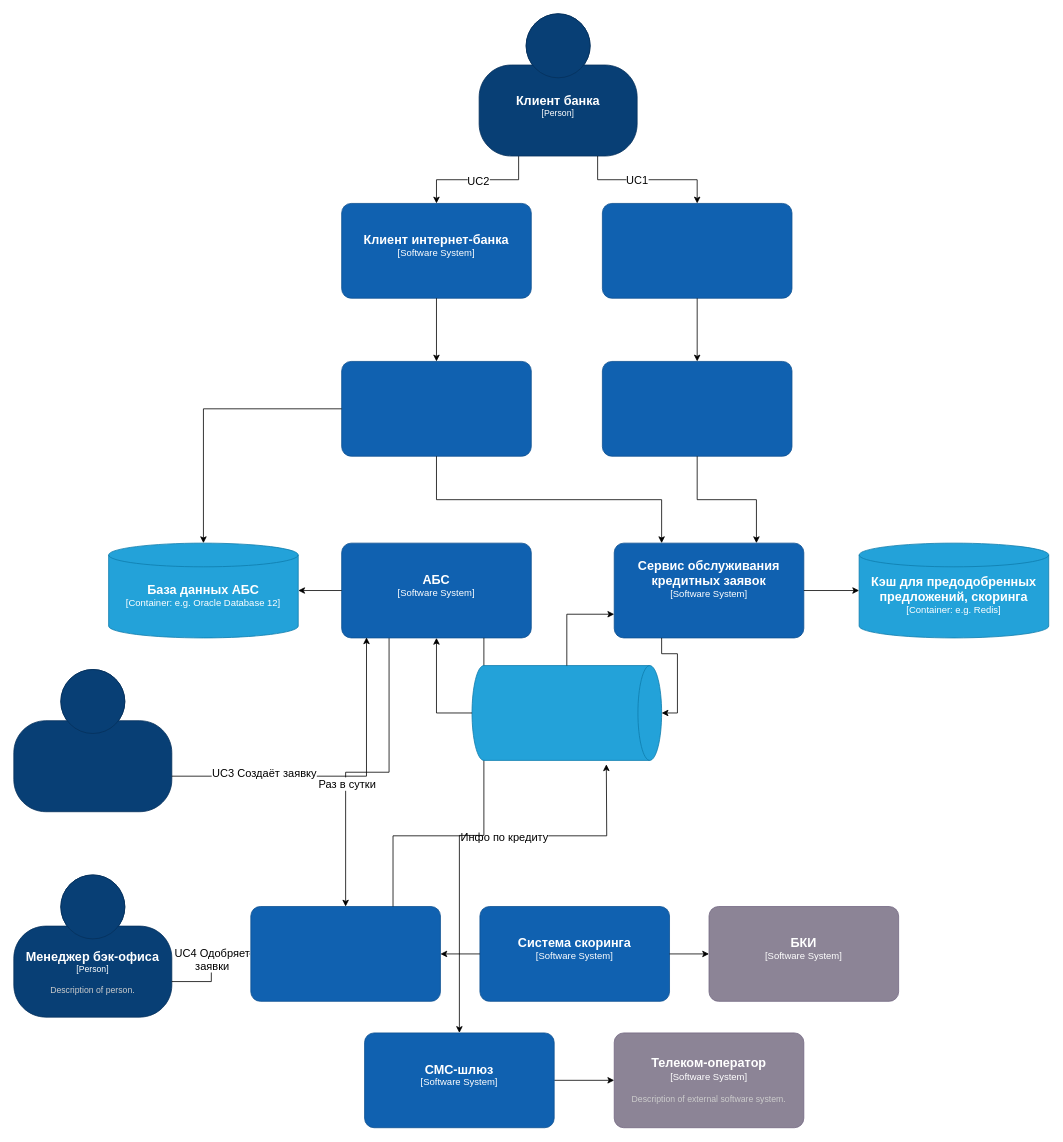
The diagram is 1063 pixels wide and 1142 high, and some of its shapes have lost their labels. Here are the shapes that lost their labels. From the top down, the box of each, then its label:
(602, 203, 792, 298): Фронт сайта [Software System]
(341, 361, 531, 456): Бекенд интернет банка [Software System]
(602, 361, 792, 456): Бекенд сайта [Software System] Description of software system.
(471, 665, 662, 760): Брокер сообщений [Container: e.g. Apache Kafka, etc.]
(13, 669, 172, 812): Менеджер отделения [Person]
(250, 906, 440, 1001): Кредитный конвейер [Software System]
